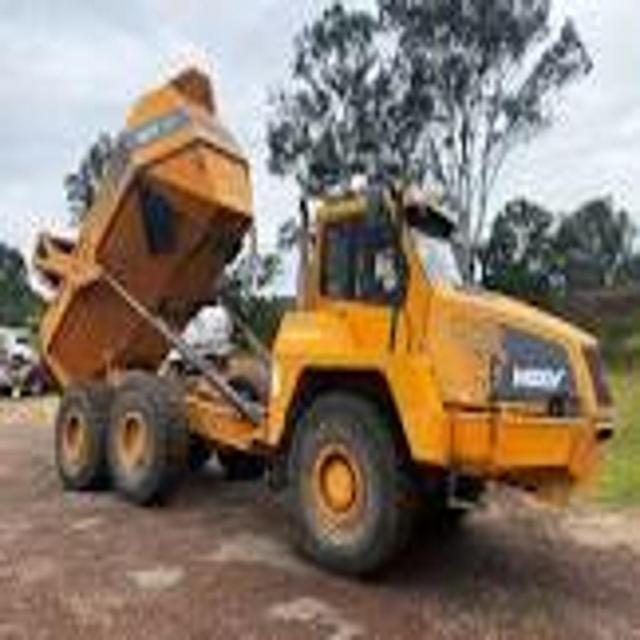dump_truck: (36, 63, 618, 580)
